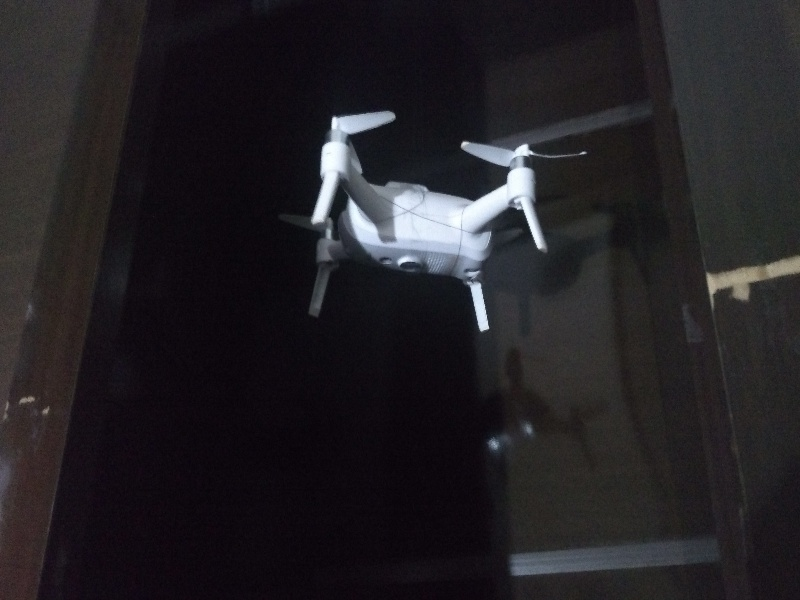drone: (286, 101, 568, 341)
